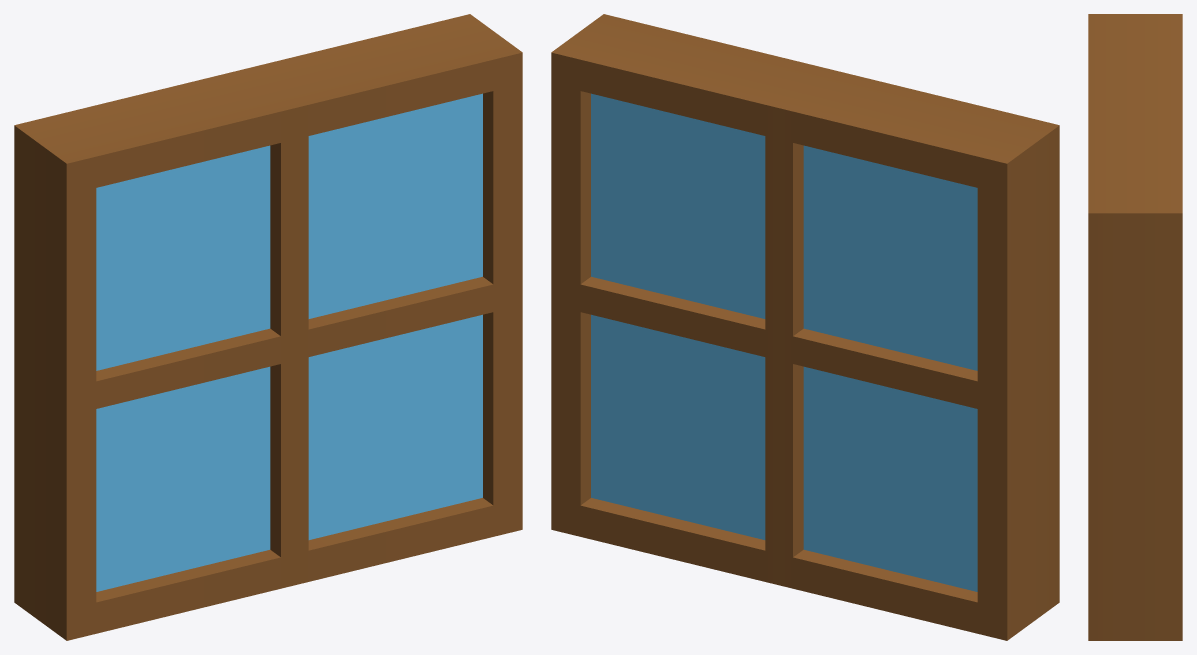
Rendered from Window_01.fbx.
3 views of the same model, side by side, from view 1: azimuth 30°, elevation 25°; view 2: azimuth 150°, elevation 25°; view 3: azimuth 270°, elevation 25° (orthographic). The views are drawn at different scales.
Visible parts, largest first — view 1: Window_01; view 2: Window_01; view 3: Window_01.
Boxes of the visible parts, box(x1,y1,x2,y2) form: Window_01: box(14, 14, 522, 640); Window_01: box(551, 14, 1059, 640); Window_01: box(1088, 14, 1182, 640).
Bounding box in the file's own units: 1 × 1 × 0.2.
